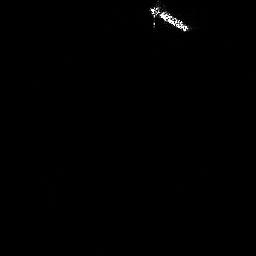ship: (146, 2, 193, 34)
